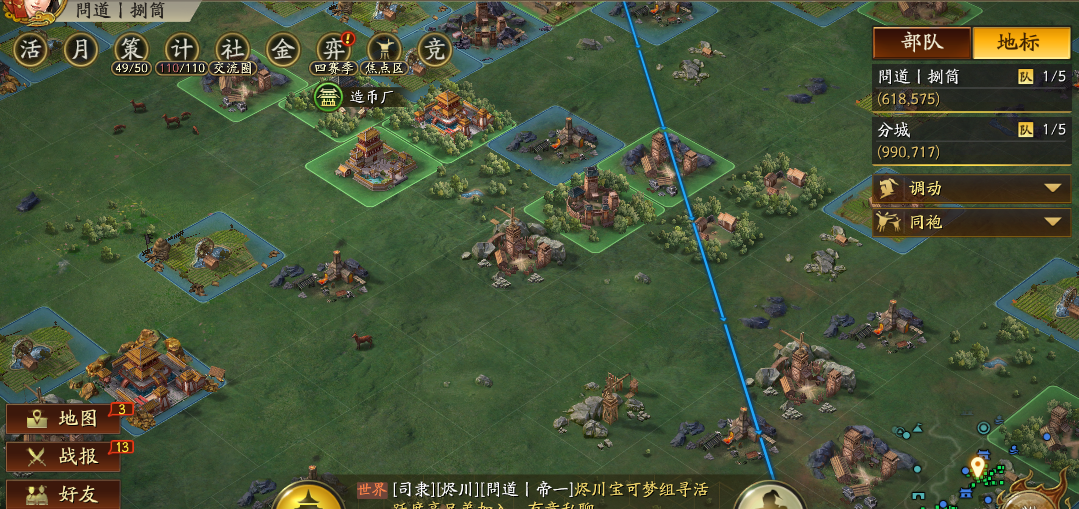sanzhan_plot_node: (792, 278, 958, 397), (715, 332, 887, 445), (510, 360, 685, 470), (60, 331, 229, 443), (766, 415, 952, 508), (515, 156, 675, 258), (746, 212, 913, 308), (441, 205, 592, 309), (657, 386, 809, 488), (132, 211, 290, 309), (250, 226, 399, 329), (704, 143, 850, 237), (380, 77, 519, 172), (486, 98, 625, 193), (642, 187, 783, 278), (2, 304, 113, 419), (597, 117, 732, 211), (986, 383, 1076, 493), (993, 251, 1078, 359)
